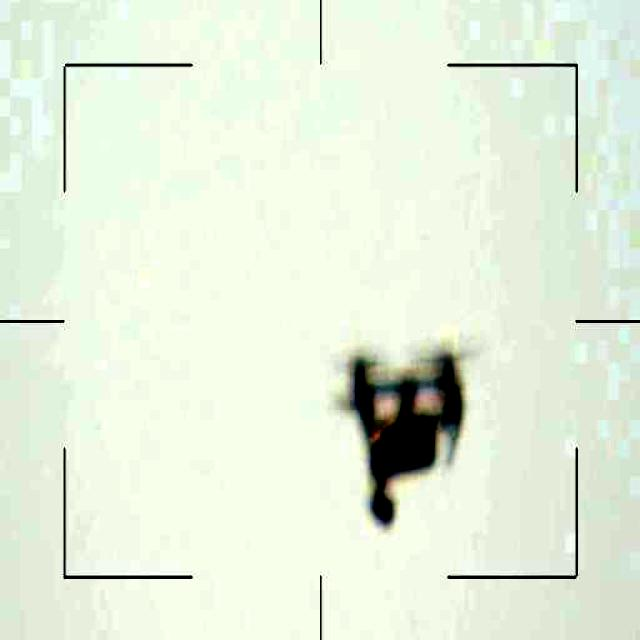bird: (332, 334, 481, 528)
